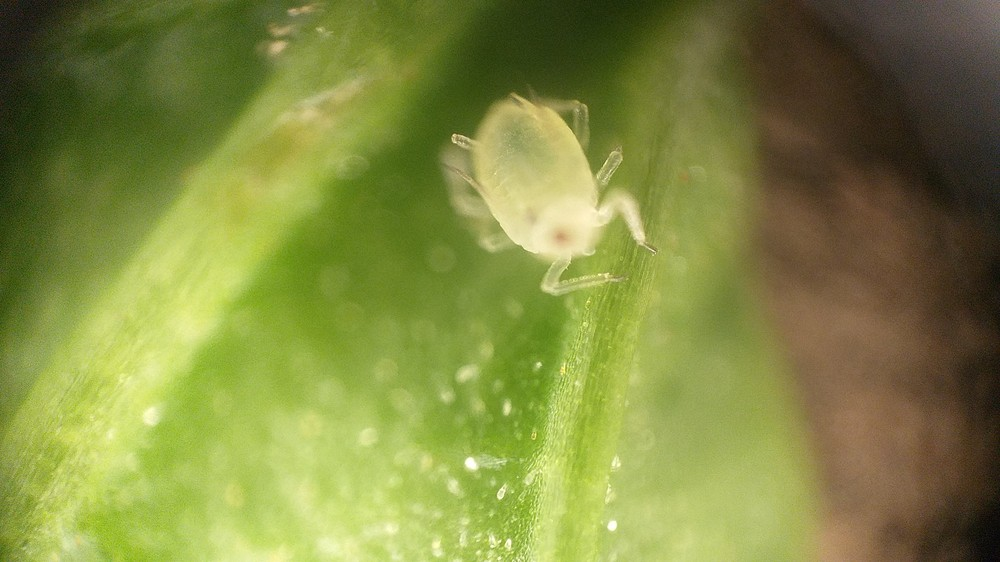Pulgon: (395, 76, 693, 319)
